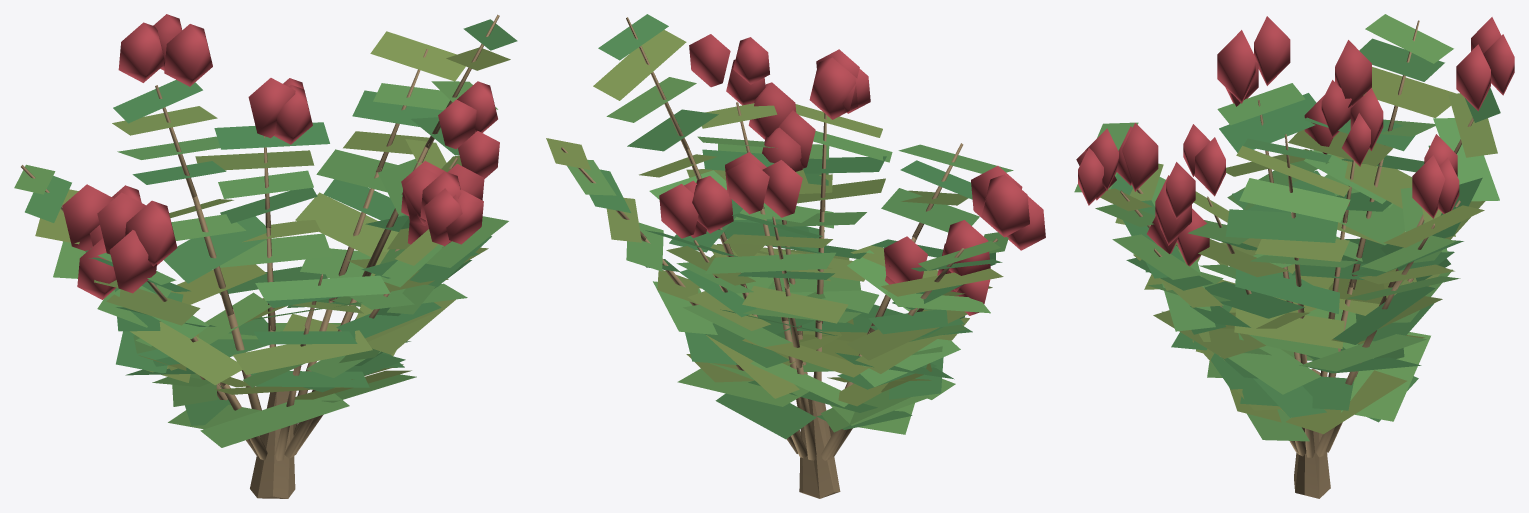
Rendered from bush_berry_far.glb.
The picture shows the model from 3 angles, left to right: view 1: azimuth 30°, elevation 25°; view 2: azimuth 150°, elevation 25°; view 3: azimuth 270°, elevation 25°; orthographic projection. The views are drawn at different scales.
Parts seen in each view (by area): view 1: bush_berry; view 2: bush_berry; view 3: bush_berry.
Part boxes in pixels (x1,y1,x2,y2): bush_berry: (14,14,517,498); bush_berry: (546,14,1045,498); bush_berry: (1074,14,1514,498).
Bounding box in the file's own units: 1.23 × 1.11 × 0.946.
